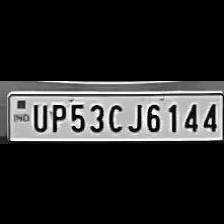1: (162, 100, 178, 132)
3: (86, 100, 104, 132)
4: (198, 98, 218, 130), (180, 98, 198, 132)
5: (66, 99, 88, 131)
6: (144, 100, 162, 132)
C: (104, 100, 124, 132)
J: (125, 99, 143, 131)
P: (46, 100, 66, 132)
U: (28, 99, 48, 131)
